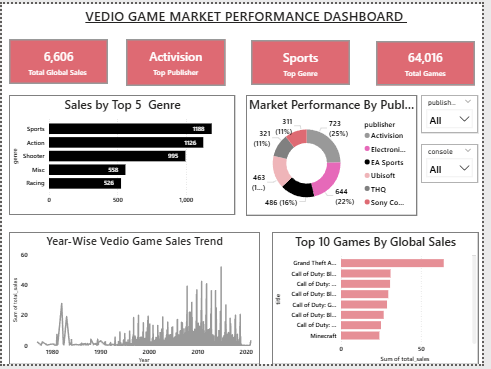

Layout of this report page (visuals, bound fields, positions):
{"tool":"powerbi","page":{"name":"Page 1","canvas":[960,720],"ordinal":0},"visuals":[{"type":"textbox","box":[153.7,0,668.8,58.5],"z":0},{"type":"image","box":[895.6,0,64.4,58.5],"z":1000},{"type":"clusteredBarChart","title":"Sales by Top 5  Genre","fields":{"Category":["vgchartz-2024.genre"],"Y":["vgchartz-2024.Sales"]},"box":[13.2,181.5,452.2,240],"z":2000},{"type":"slicer","fields":{"Values":["vgchartz-2024.publisher"]},"box":[838.5,181.5,114.1,76.1],"z":3000},{"type":"slicer","fields":{"Values":["vgchartz-2024.console"]},"box":[838.5,279.5,114.1,77.6],"z":4000},{"type":"lineChart","title":"Year-Wise Vedio Game Sales Trend ","fields":{"Y":["Sum(vgchartz-2024.total_sales)"],"Category":["vgchartz-2024.release_date.Variation.Date Hierarchy.Year","vgchartz-2024.release_date.Variation.Date Hierarchy.Quarter","vgchartz-2024.release_date.Variation.Date Hierarchy.Month","vgchartz-2024.release_date.Variation.Date Hierarchy.Day"]},"box":[13.3,455,501.7,265],"z":5000},{"type":"card","fields":{"Values":["Sum(vgchartz-2024.total_sales)"]},"box":[13.3,70,198.3,90],"z":6000},{"type":"card","fields":{"Values":["vgchartz-2024.Total Games"]},"box":[747.8,74.6,197.6,89.3],"z":7000},{"type":"card","fields":{"Values":["vgchartz-2024.Top Genre"]},"box":[497.9,72.9,198.3,90],"z":8000},{"type":"card","fields":{"Values":["vgchartz-2024.Top Publisher"]},"box":[247.3,70.2,199,93.7],"z":9000},{"type":"donutChart","title":"Market Performance By Publisher ","fields":{"Y":["Sum(vgchartz-2024.total_sales)"],"Category":["vgchartz-2024.publisher"]},"box":[488.8,181.5,342.4,241.5],"z":10000},{"type":"clusteredBarChart","title":"Top 10 Games By Global Sales ","fields":{"Y":["Sum(vgchartz-2024.total_sales)"],"Category":["vgchartz-2024.title"]},"box":[540,455.1,412.7,264.9],"z":10001}]}

Visuals, with their boxes in screenshot pixels (x1, y1, x2, y2), scaled from the page's 960x720 canvas onto the 491x369 screenshot:
textbox: [left=79, top=0, right=421, bottom=30]
image: [left=458, top=0, right=490, bottom=30]
"Sales by Top 5  Genre" clusteredBarChart: [left=7, top=93, right=238, bottom=216]
slicer - vgchartz-2024.publisher: [left=429, top=93, right=487, bottom=132]
slicer - vgchartz-2024.console: [left=429, top=143, right=487, bottom=183]
"Year-Wise Vedio Game Sales Trend " lineChart: [left=7, top=233, right=263, bottom=368]
card - Sum(vgchartz-2024.total_sales): [left=7, top=36, right=108, bottom=82]
card - vgchartz-2024.Total Games: [left=382, top=38, right=484, bottom=84]
card - vgchartz-2024.Top Genre: [left=255, top=37, right=356, bottom=83]
card - vgchartz-2024.Top Publisher: [left=126, top=36, right=228, bottom=84]
"Market Performance By Publisher " donutChart: [left=250, top=93, right=425, bottom=217]
"Top 10 Games By Global Sales " clusteredBarChart: [left=276, top=233, right=487, bottom=368]
